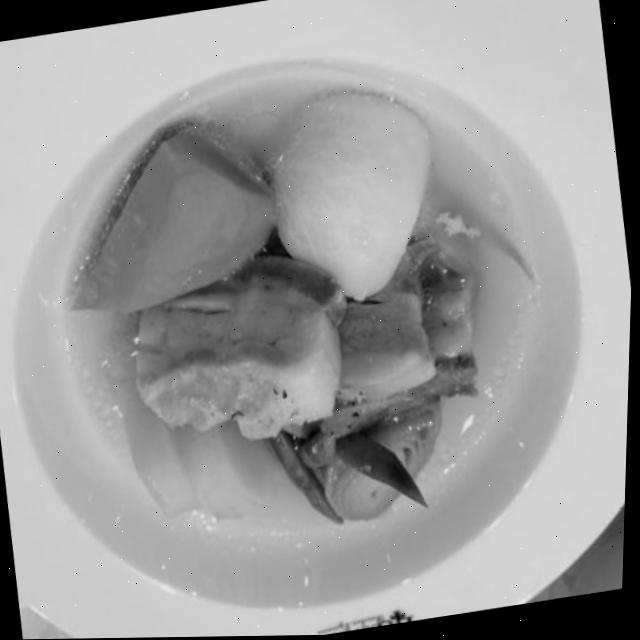汤锅炖物: (19, 46, 586, 579)
